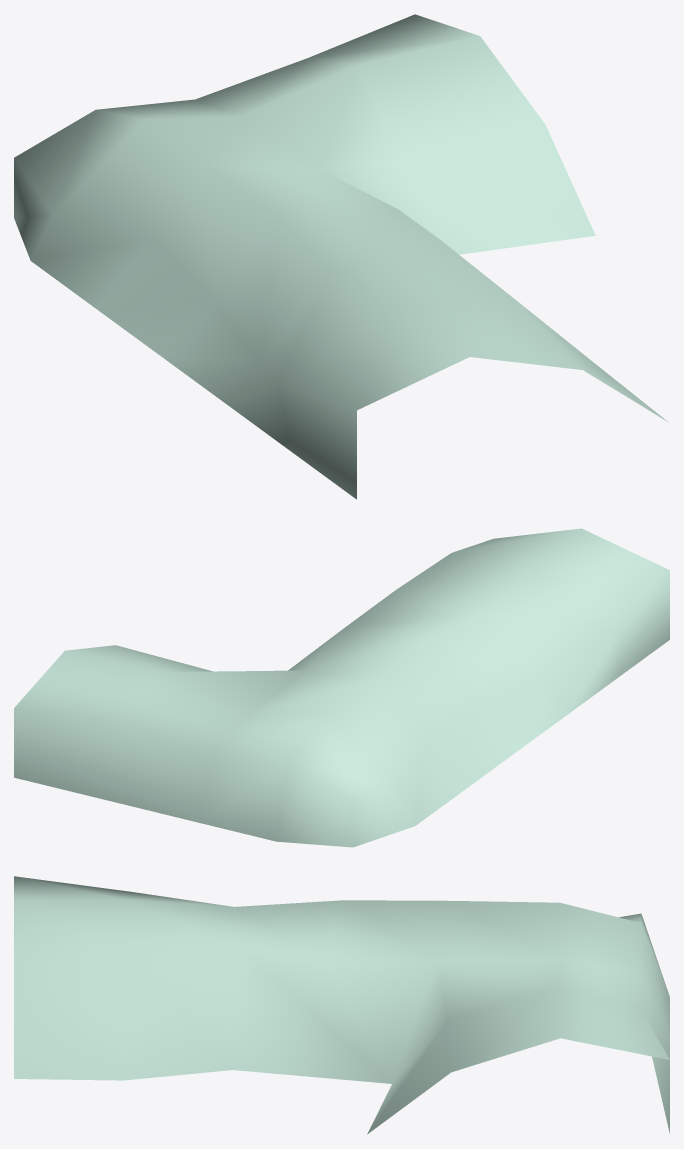
The model's file is snow-corner-v3.glb.
3 renders of one model, top to bottom at view 1: azimuth 30°, elevation 25°; view 2: azimuth 150°, elevation 25°; view 3: azimuth 270°, elevation 25°, orthographic. The views are drawn at different scales.
Visible parts, largest first — view 1: SnowCorner_v3; view 2: SnowCorner_v3; view 3: SnowCorner_v3.
Boxes of the visible parts, x1,y1,x2,y2 form: SnowCorner_v3: (14, 14, 668, 499); SnowCorner_v3: (14, 528, 669, 847); SnowCorner_v3: (14, 876, 669, 1134).
Size of the model in its own units: 135 by 32.87 by 200.
Materials: 1 (1 with a texture image).
